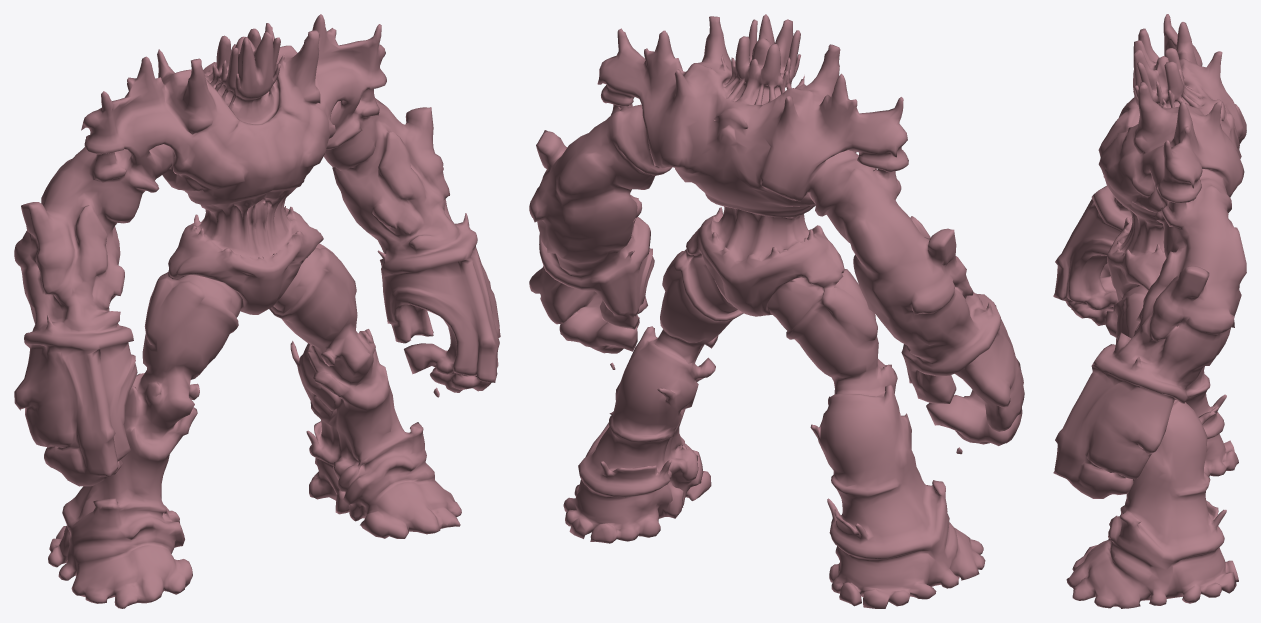
The model's file is bridge-colossus.glb.
3 views of the same model, side by side, from view 1: azimuth 30°, elevation 25°; view 2: azimuth 150°, elevation 25°; view 3: azimuth 270°, elevation 25° (orthographic). The views are drawn at different scales.
Parts seen in each view (by area): view 1: model; view 2: model; view 3: model.
Part boxes in pixels (box(x1,y1,x2,y2)): model: box(14, 14, 500, 608); model: box(529, 14, 1024, 608); model: box(1053, 14, 1246, 608).
Size of the model in its own units: 1.66 by 1.72 by 0.6318.
